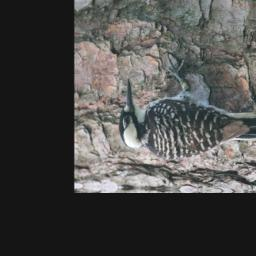Woodpecker: (117, 45, 256, 169)
